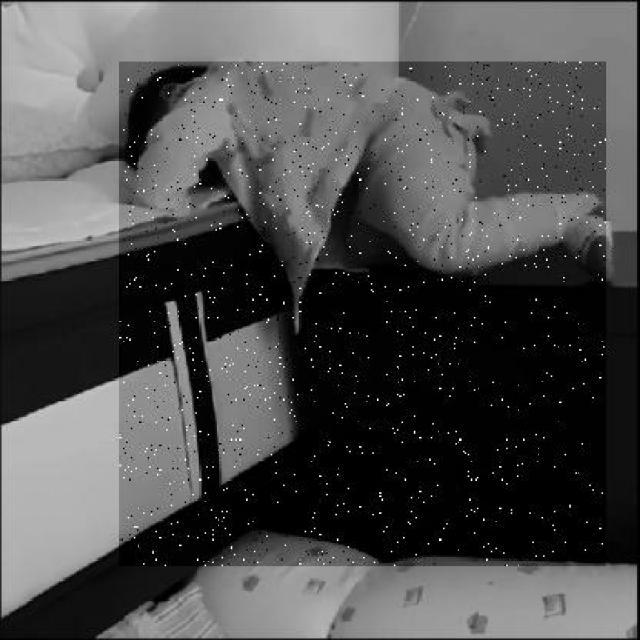child: (119, 62, 605, 566)
